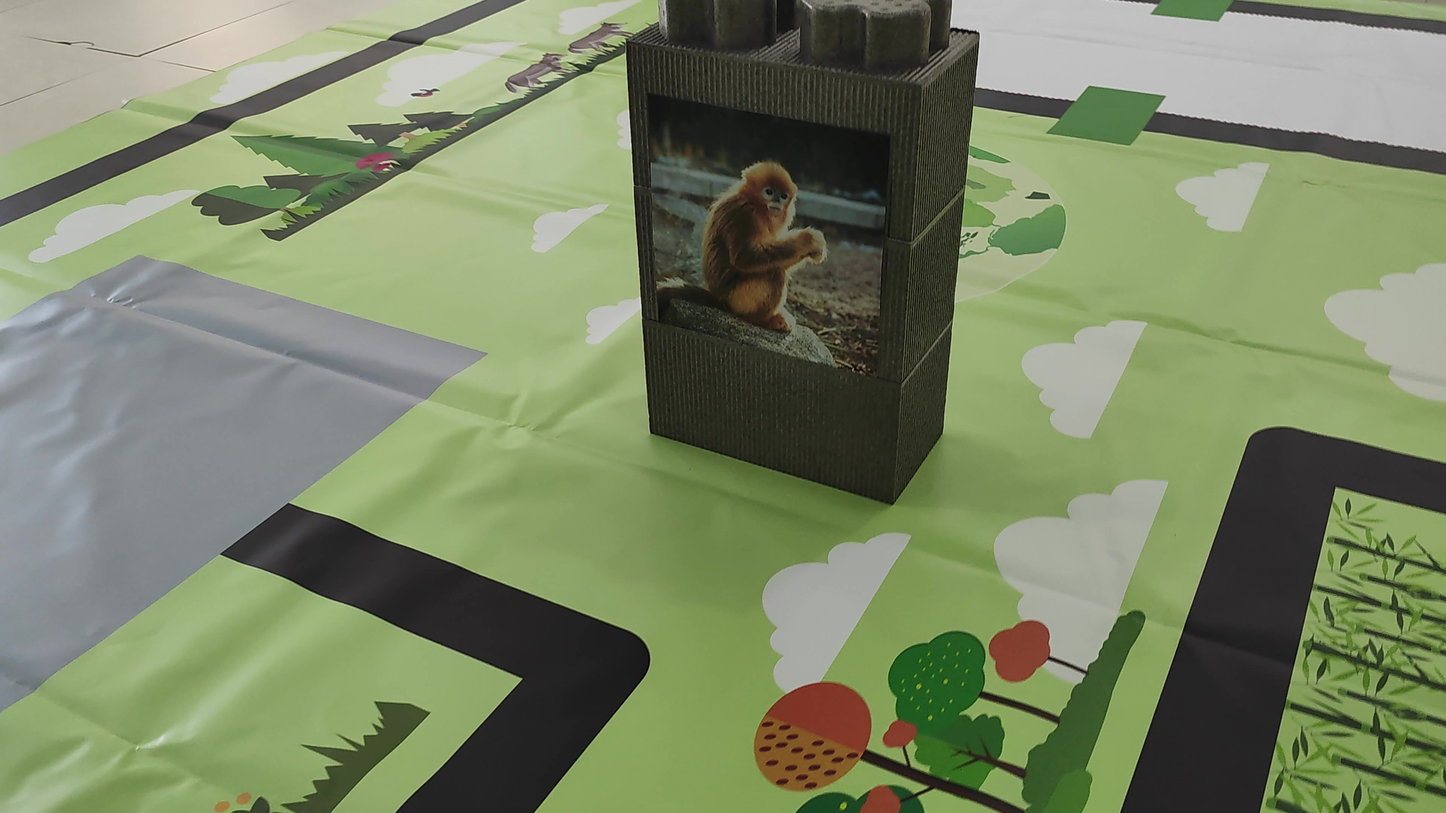monkey: (649, 139, 846, 364)
